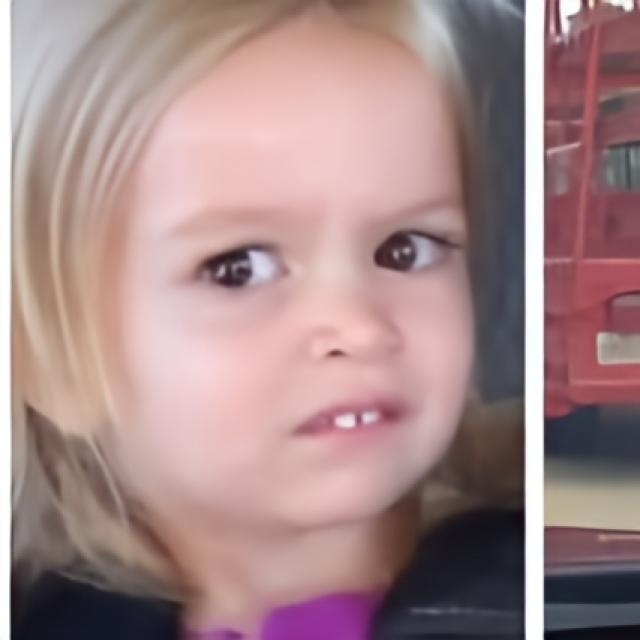disgust: (94, 0, 477, 533)
